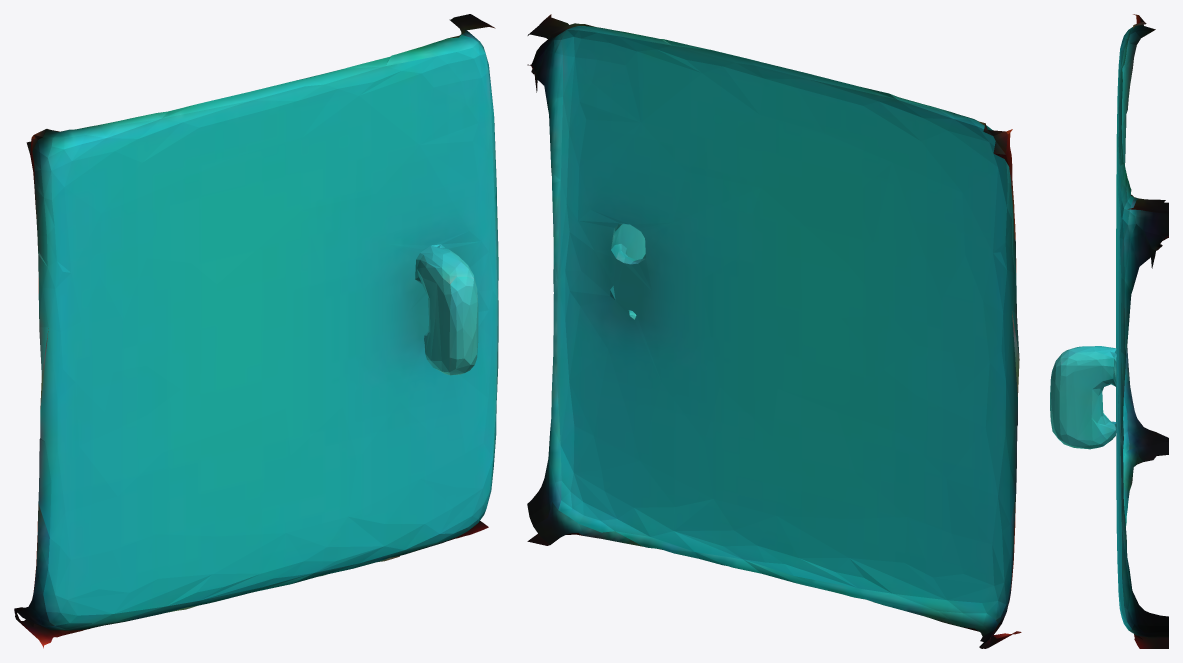
Rendered from door_bottom_left.glb.
3 views of the same model, side by side, from view 1: azimuth 30°, elevation 25°; view 2: azimuth 150°, elevation 25°; view 3: azimuth 270°, elevation 25° (orthographic). The views are drawn at different scales.
Parts seen in each view (by area): view 1: source_surface_0; view 2: source_surface_0; view 3: source_surface_0.
Boxes of the visible parts, x1=… form: source_surface_0: x1=14, y1=14, x2=498, y2=648; source_surface_0: x1=527, y1=14, x2=1021, y2=648; source_surface_0: x1=1050, y1=14, x2=1168, y2=648.
Bounding box in the file's own units: 0.0768 × 0.0807 × 0.0198.
Materials: 1 (1 with a texture image).
